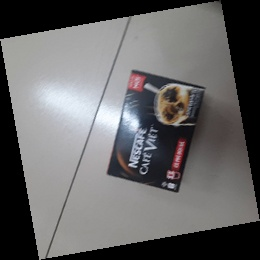CF Viet: (106, 69, 206, 193)
